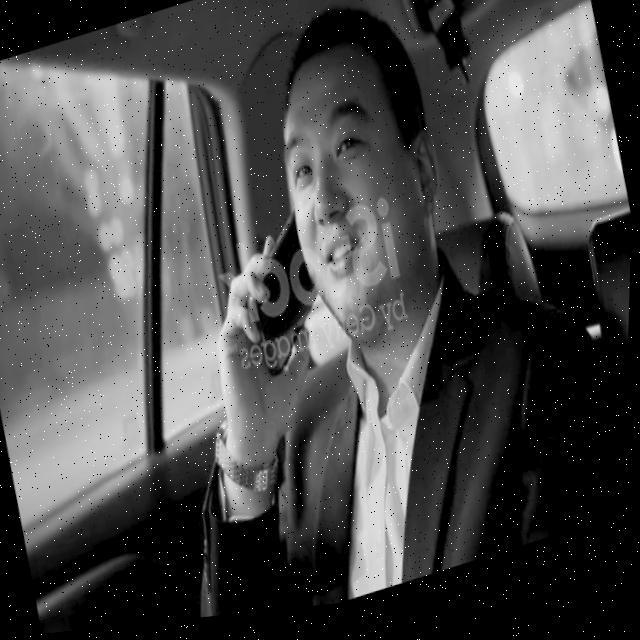PhoneCall: (232, 219, 333, 387)
